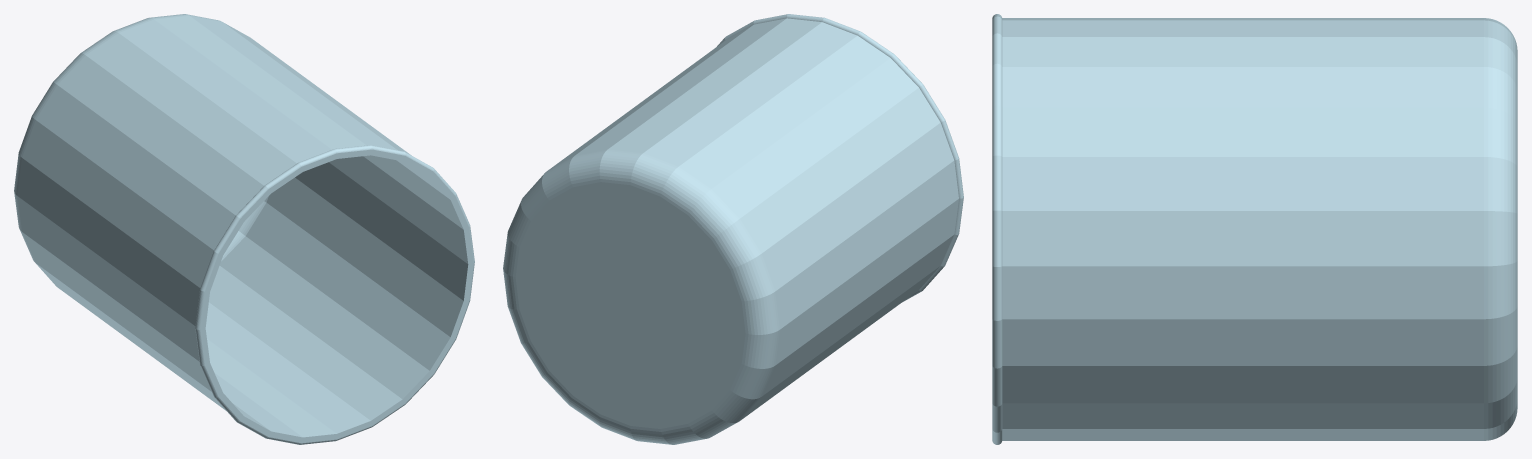
3 views of the same model, side by side, from view 1: azimuth 30°, elevation 25°; view 2: azimuth 150°, elevation 25°; view 3: azimuth 270°, elevation 25° (orthographic). The views are drawn at different scales.
Visible parts, largest first — view 1: beaker; view 2: beaker; view 3: beaker.
Boxes of the visible parts, x1,y1,x2,y2 form: beaker: [14, 14, 474, 444]; beaker: [503, 14, 963, 444]; beaker: [992, 14, 1517, 444].
Size of the model in its own units: 190 by 190 by 231.
